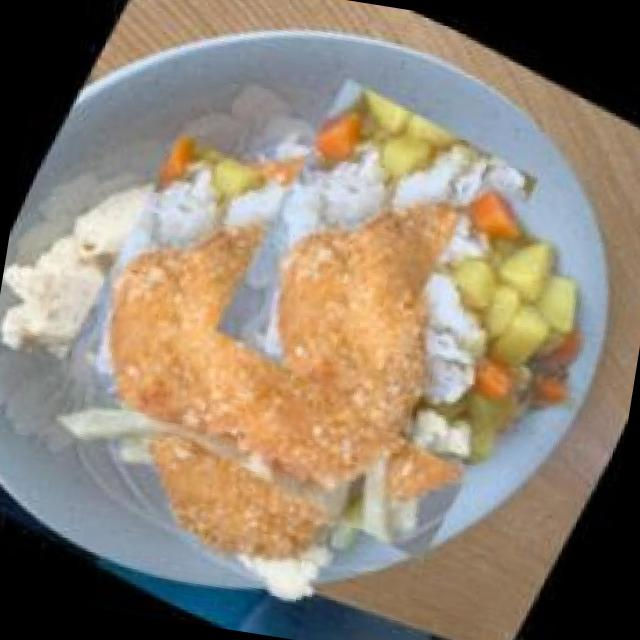curry: (345, 160, 640, 517)
fried_chicken: (49, 93, 558, 602)
rice: (190, 66, 564, 442)
